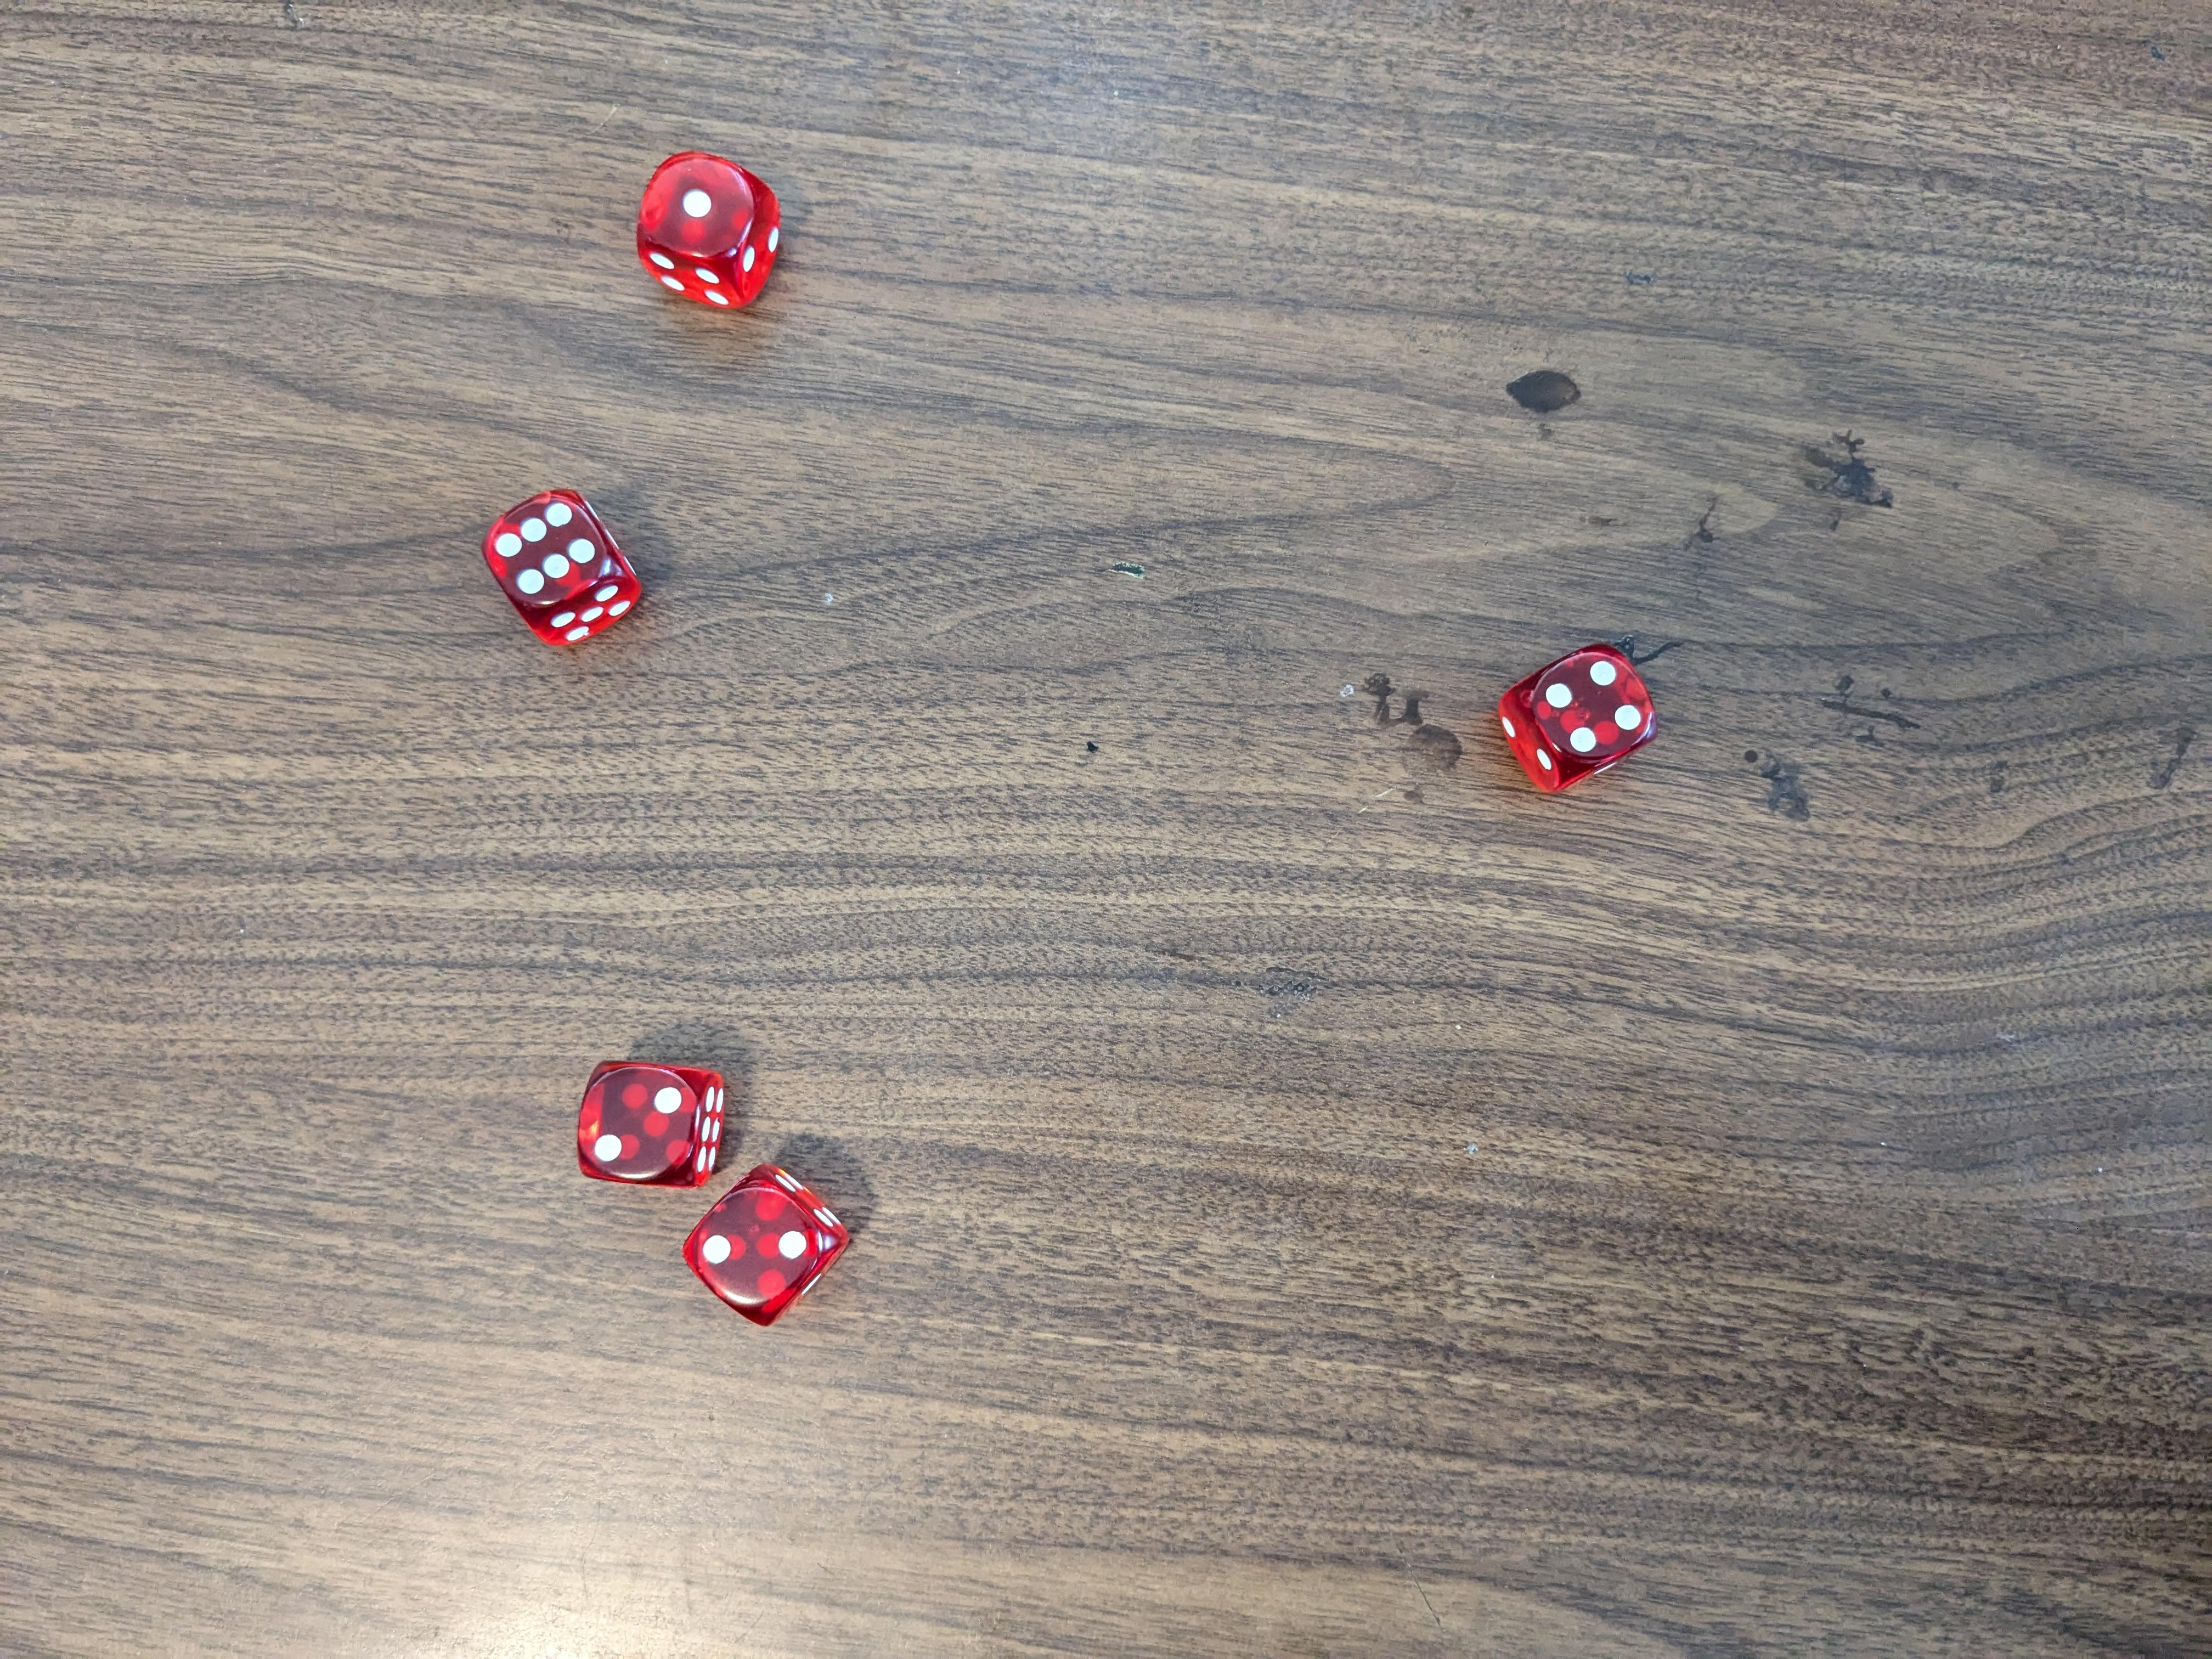four: (1489, 645, 1658, 796)
one: (636, 153, 786, 310)
six: (479, 483, 646, 652)
two: (686, 1164, 859, 1326), (575, 1056, 733, 1197)
